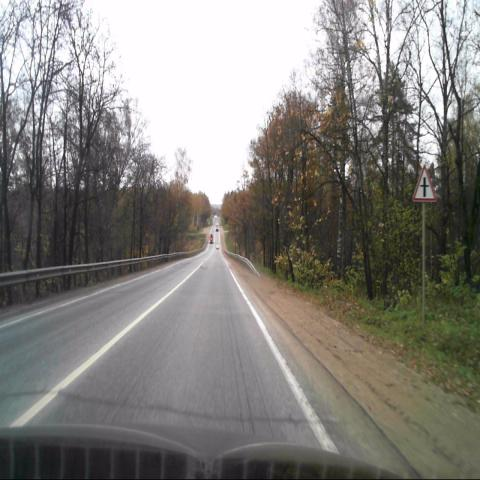2_3: (413, 164, 435, 203)
